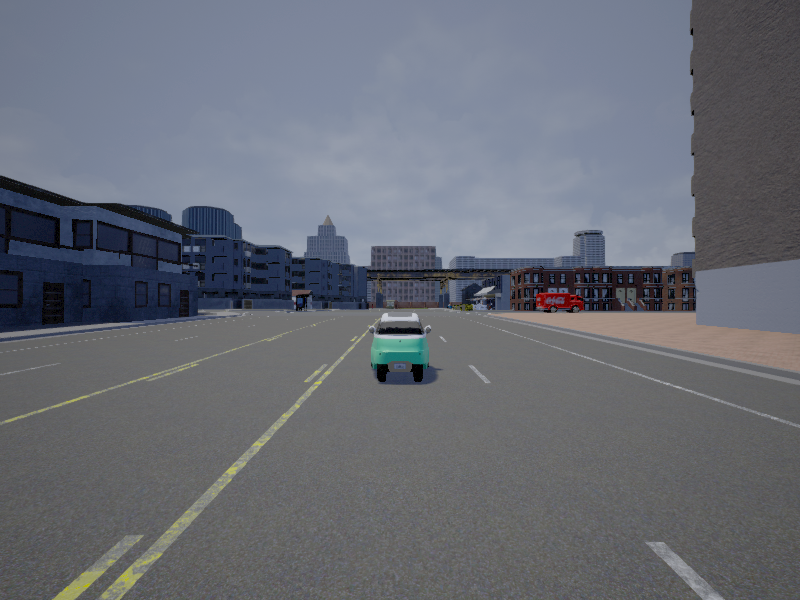Benign: (371, 313, 431, 384), (535, 291, 583, 315)
